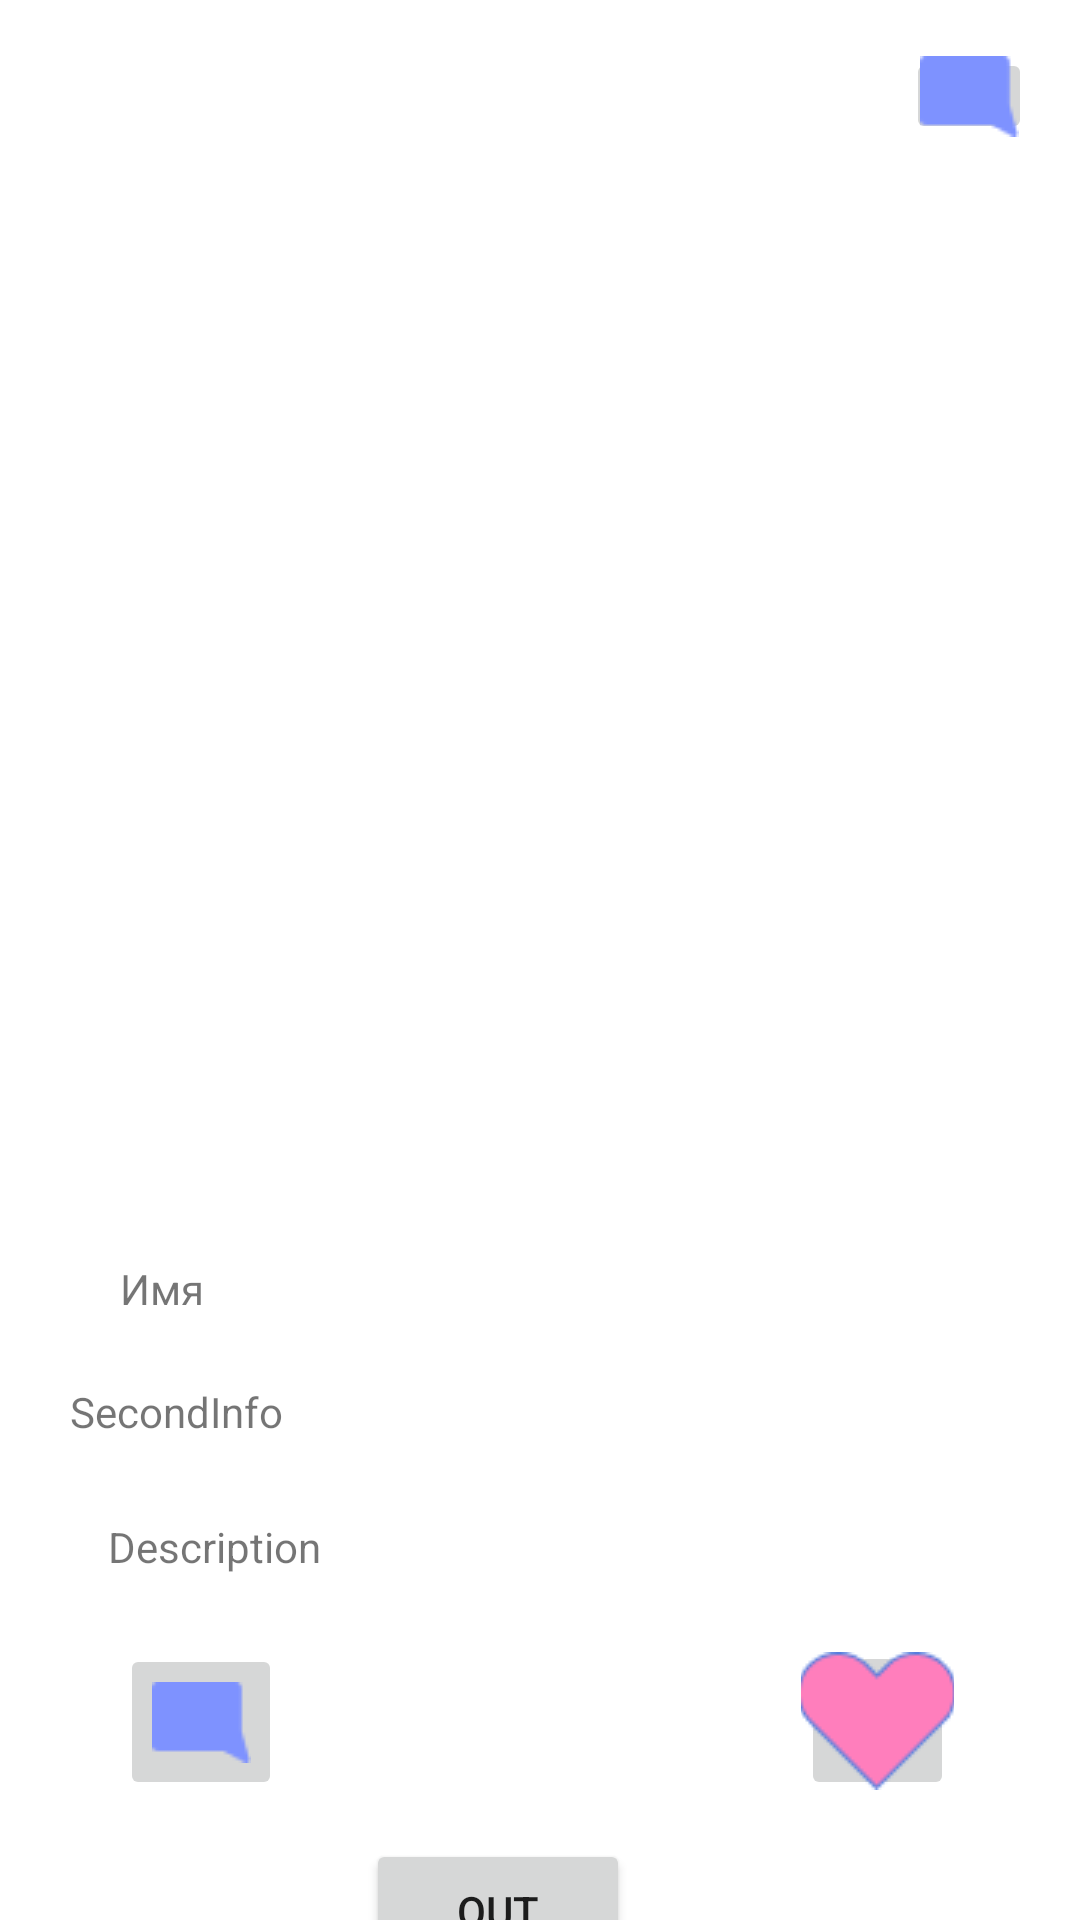

Point at icon controls on the screen. Image size 1080x1920, points as (x,y).
heart: (877,1721)
